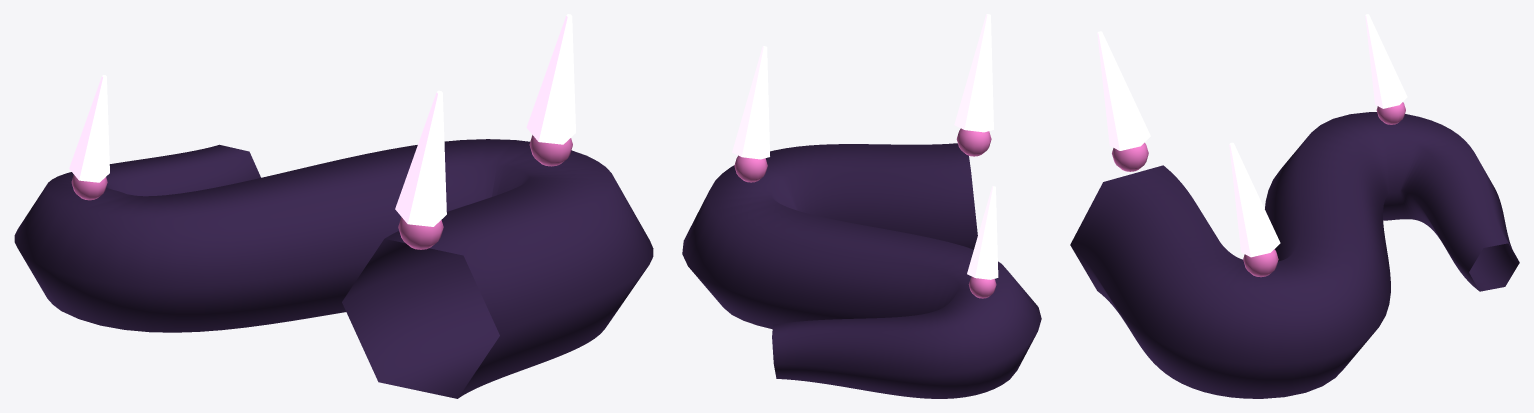
File: SM_Keeper_Apep_Body_F14.fbx
The picture shows the model from 3 angles, left to right: view 1: azimuth 30°, elevation 25°; view 2: azimuth 150°, elevation 25°; view 3: azimuth 270°, elevation 25°; orthographic projection. The views are drawn at different scales.
Parts seen in each view (by area): view 1: SM_Keeper_Apep_Body_F14; view 2: SM_Keeper_Apep_Body_F14; view 3: SM_Keeper_Apep_Body_F14.
Boxes of the visible parts, box(x1,y1,x2,y2) form: SM_Keeper_Apep_Body_F14: box(14, 14, 653, 398); SM_Keeper_Apep_Body_F14: box(682, 14, 1041, 398); SM_Keeper_Apep_Body_F14: box(1070, 14, 1519, 398).
Bounding box in the file's own units: 7.02 × 4.37 × 6.55.
